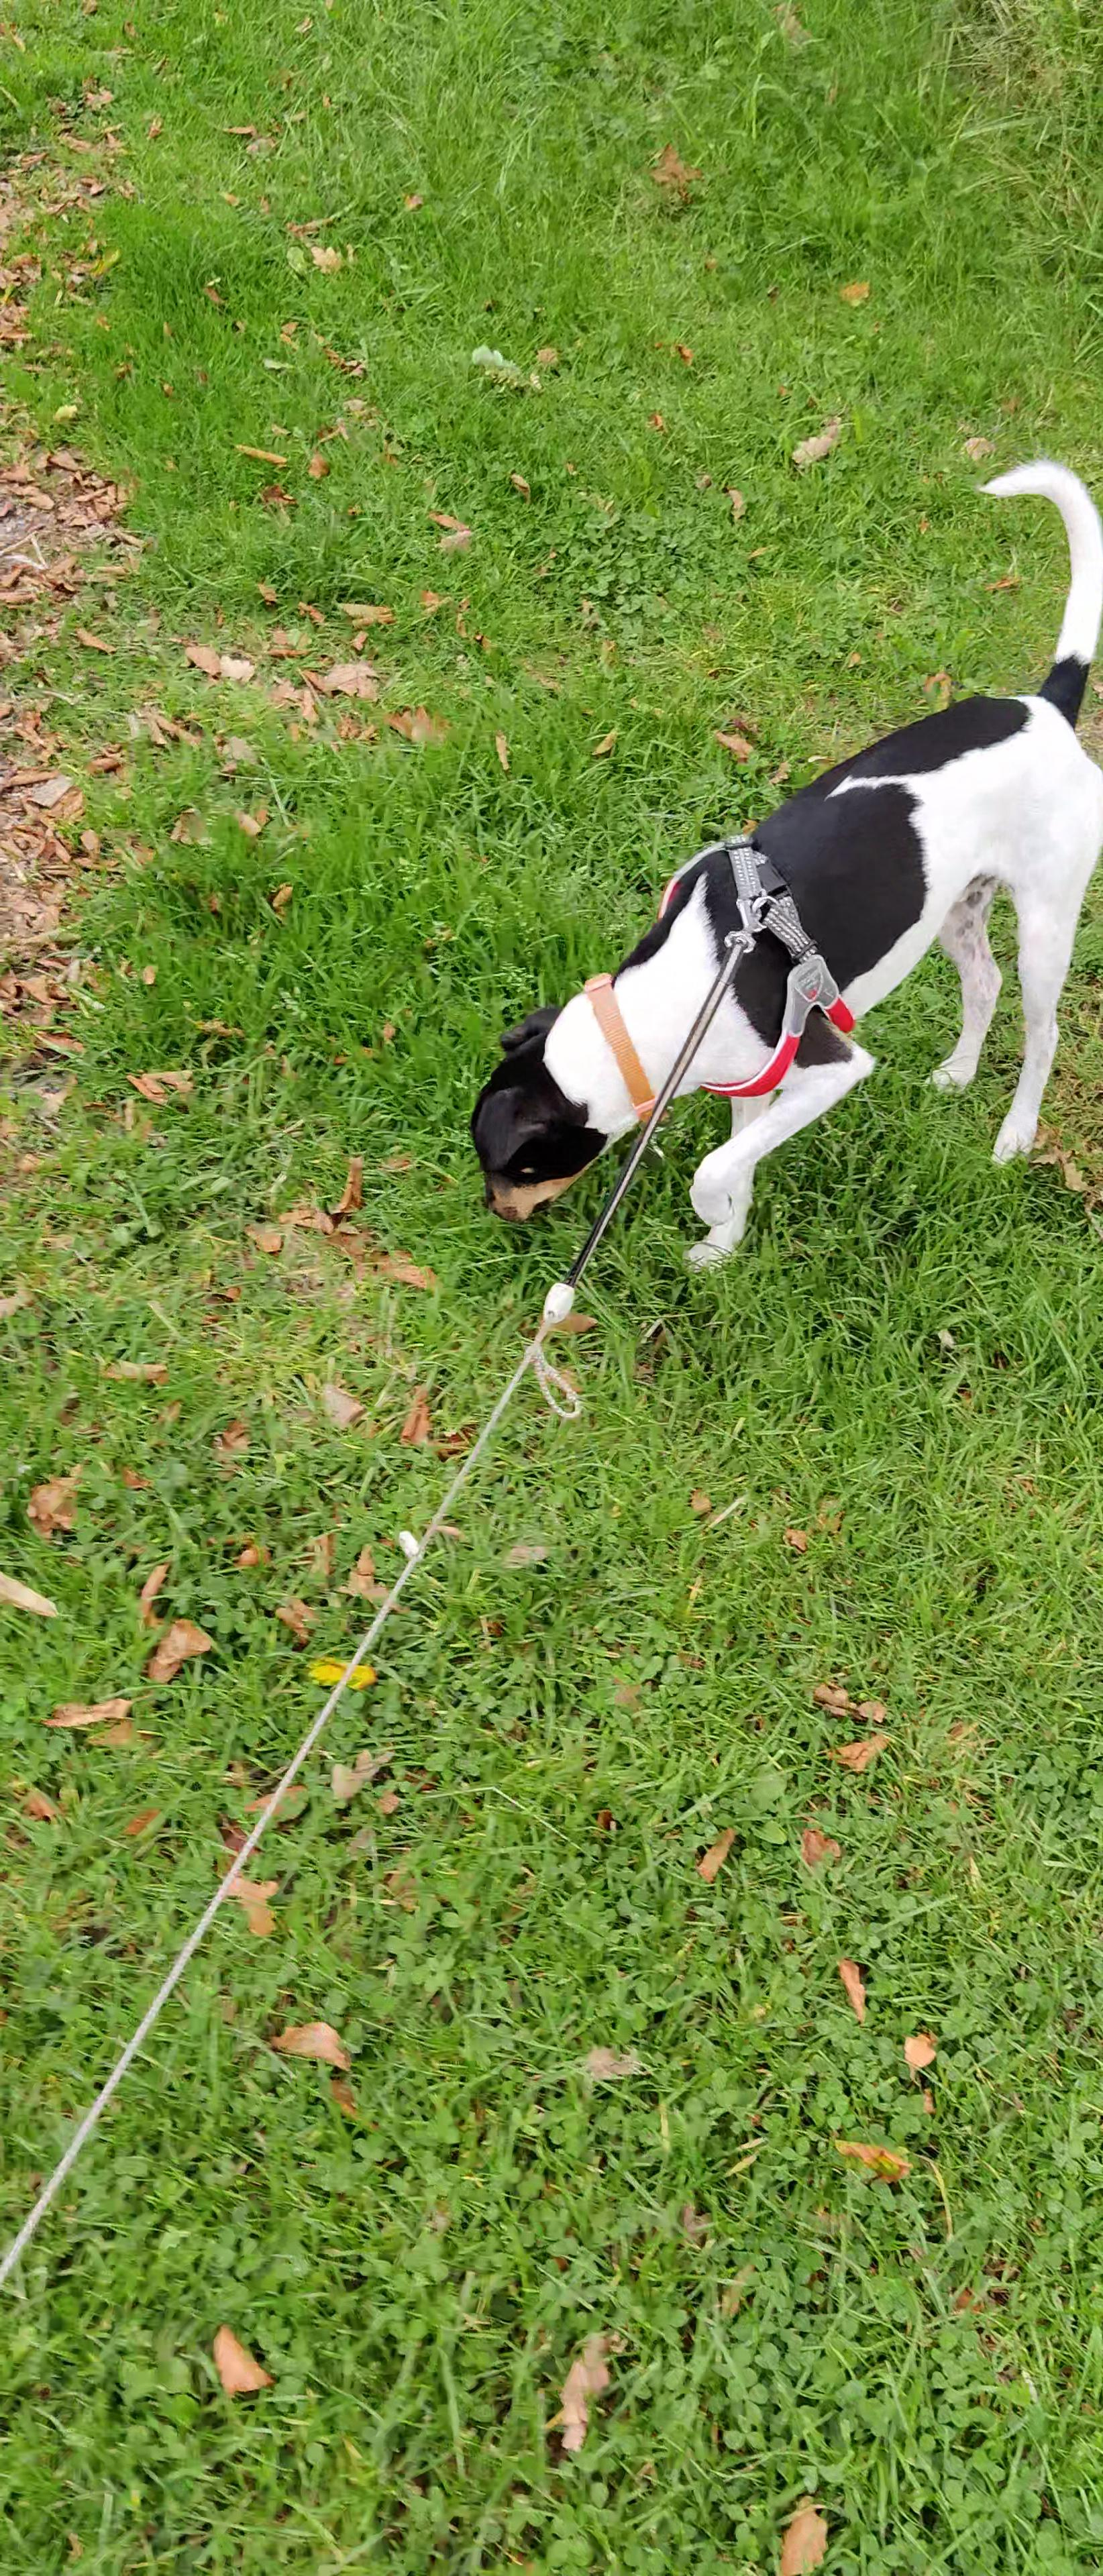Dog: (462, 447, 1103, 1285)
